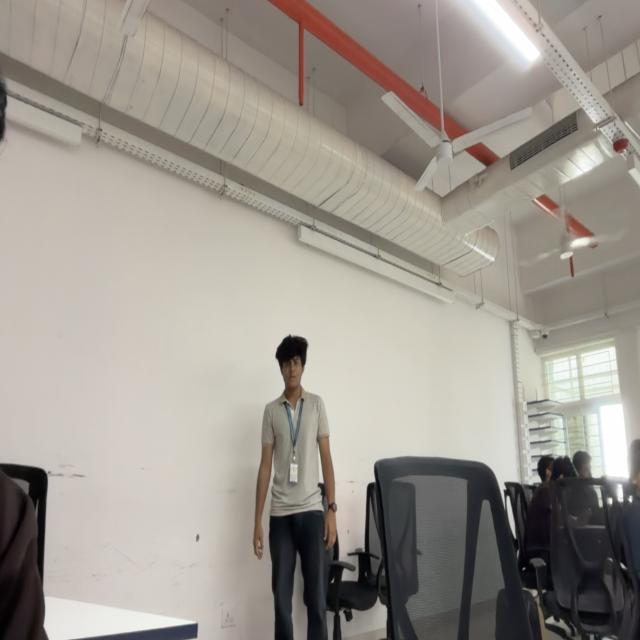kshitij: (276, 337, 309, 390)
